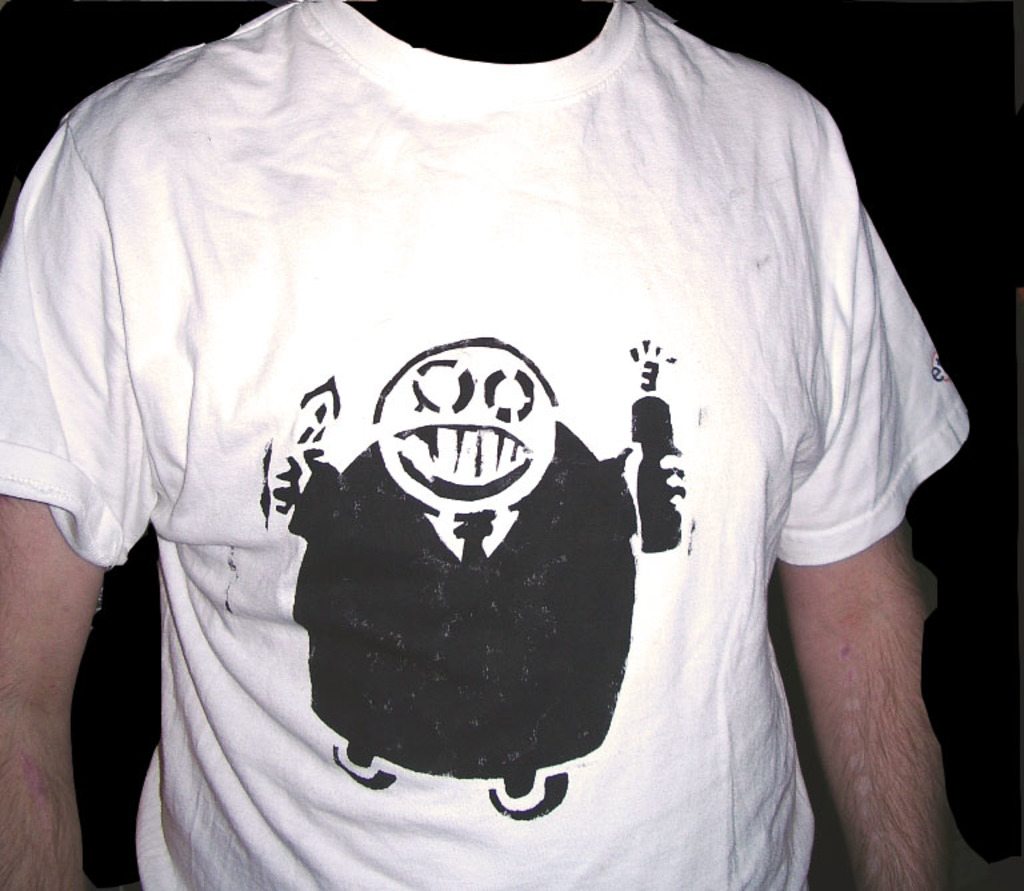Person: (0, 0, 969, 890)
